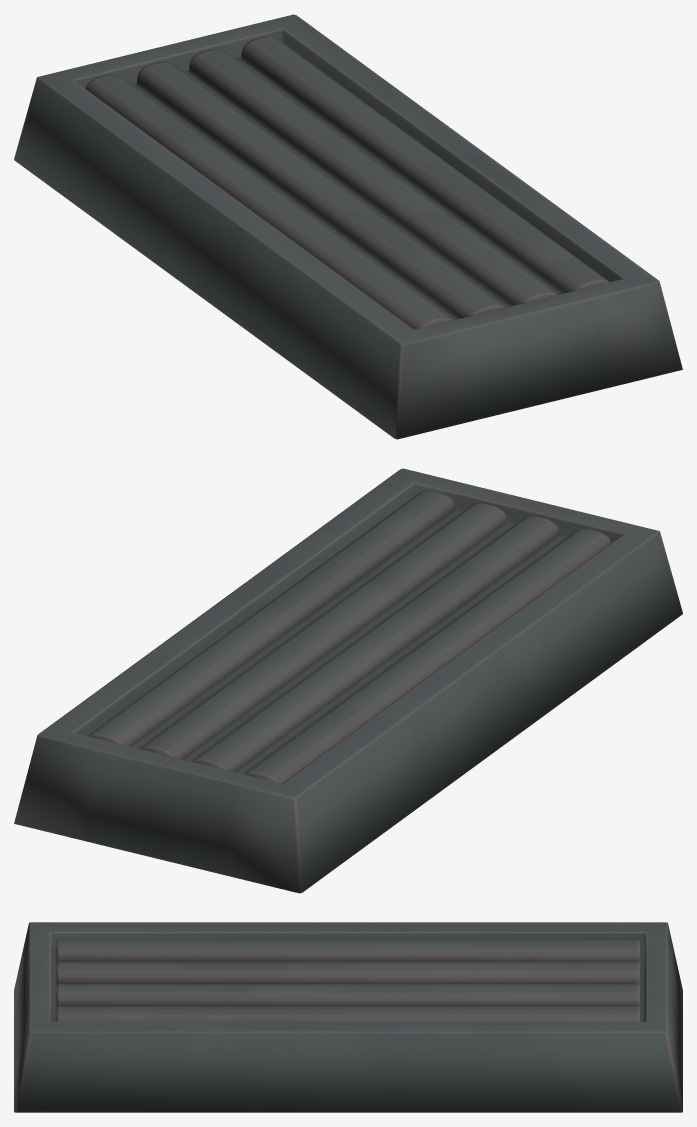
Rendered from lamp1.fbx.
The picture shows the model from 3 angles, top to bottom: view 1: azimuth 30°, elevation 25°; view 2: azimuth 150°, elevation 25°; view 3: azimuth 270°, elevation 25°; orthographic projection. The views are drawn at different scales.
Visible parts, largest first — view 1: lamp_01; view 2: lamp_01; view 3: lamp_01.
Boxes of the visible parts, <box> form: lamp_01: <box>14,14,682,439</box>; lamp_01: <box>14,468,682,893</box>; lamp_01: <box>14,922,682,1112</box>.
Bounding box in the file's own units: 59.52 × 16.96 × 137.
1 material, 1 textured.
